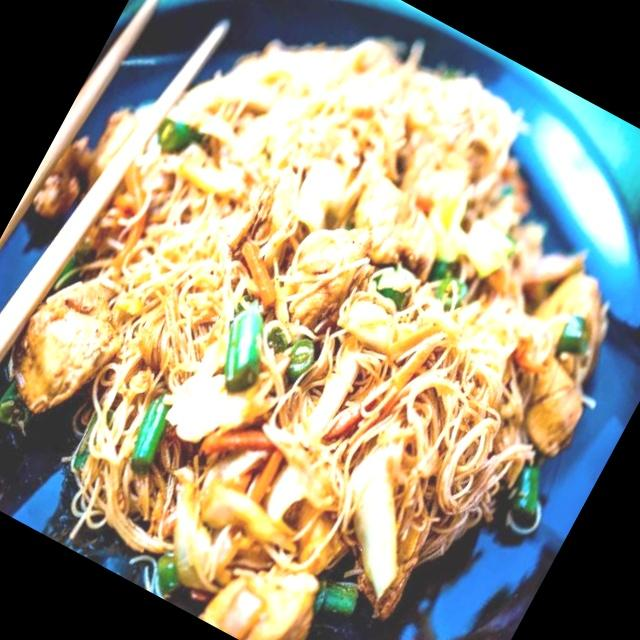pancit bihon: (19, 38, 596, 612)
